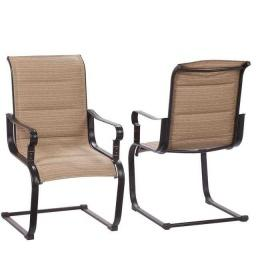Chair: (4, 54, 125, 240), (128, 61, 250, 229)
